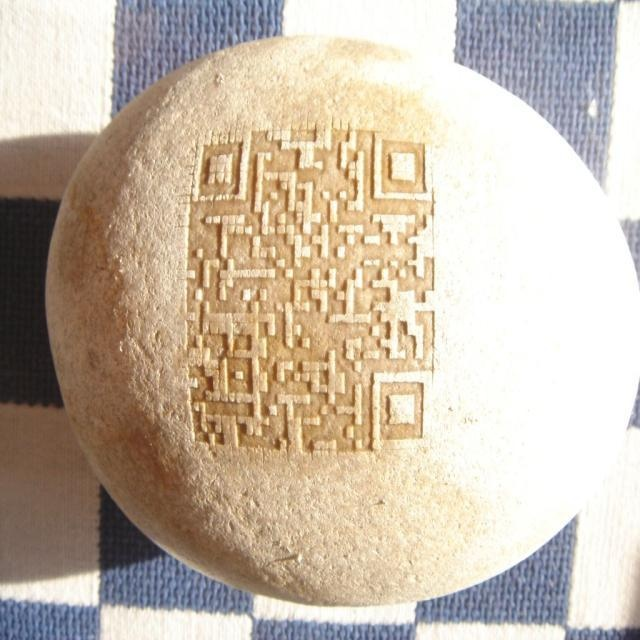qr-code: (186, 130, 432, 452)
